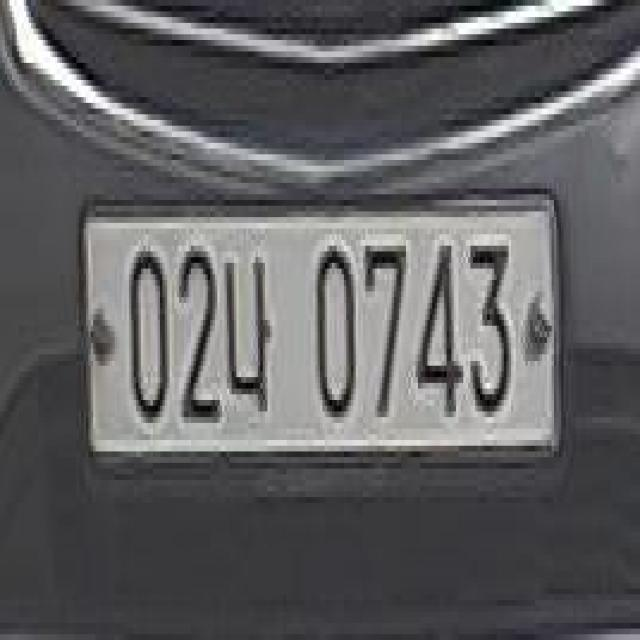illegal_plate: (87, 184, 558, 486)
